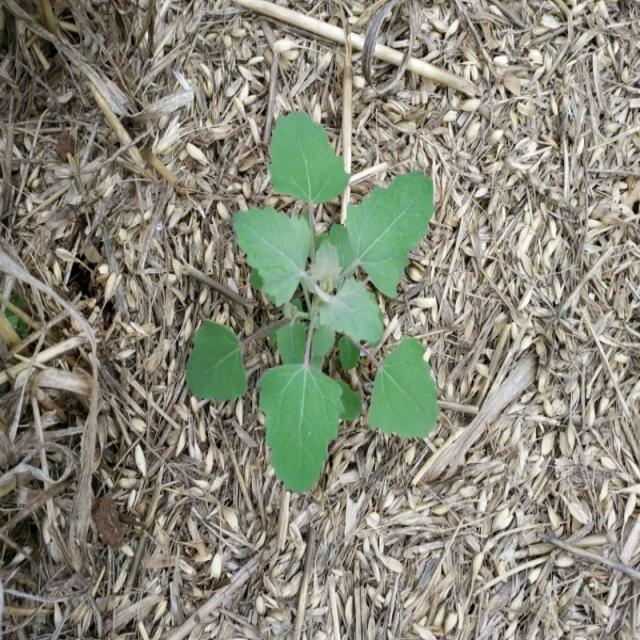goosefoots: (188, 108, 445, 485)
